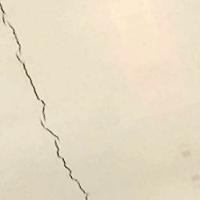crack: (0, 0, 102, 199)
